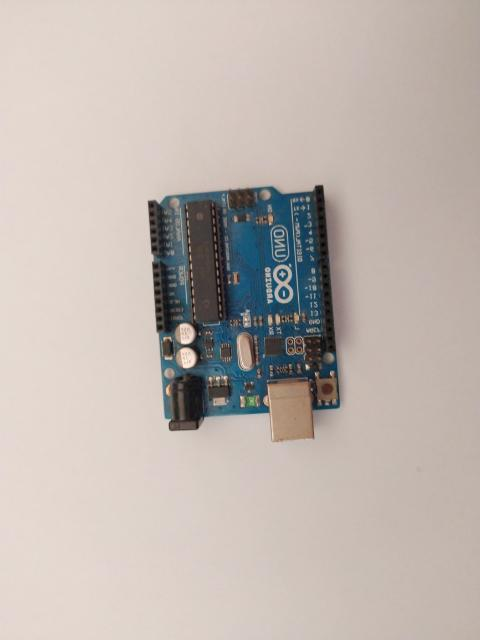arduino: (147, 184, 341, 443)
